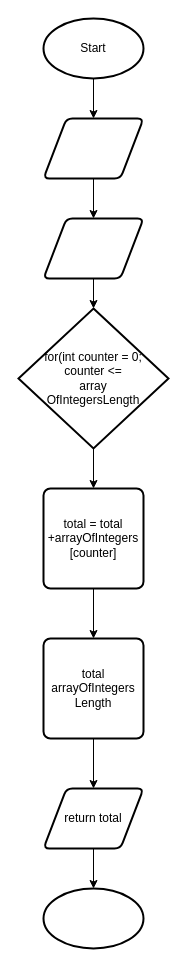
Image size: 186x966. Some labels were removed from this diagram. Each missing label, with the centre of its shape:
get array OfIntegers: the point at 93,148
get arrayOf IntegersLength: the point at 93,248
Stop: the point at 93,918
